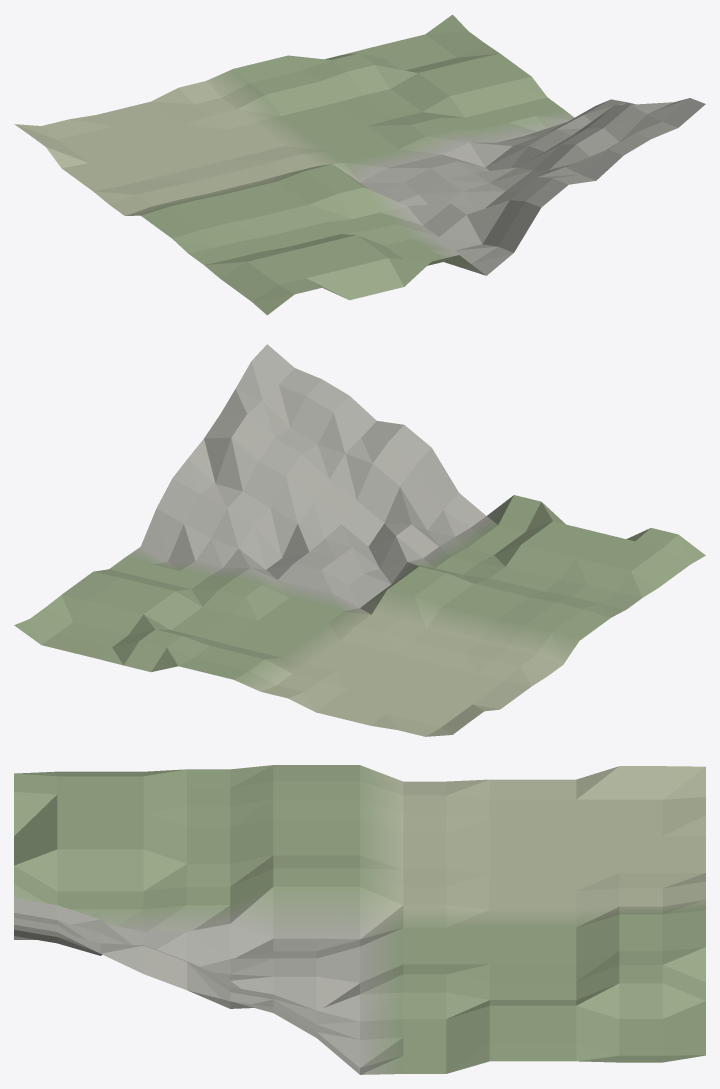
3 views of the same model, one above another, from view 1: azimuth 30°, elevation 25°; view 2: azimuth 150°, elevation 25°; view 3: azimuth 270°, elevation 25° (orthographic). The views are drawn at different scales.
Size of the model in its own units: 32 by 8.37 by 32.
